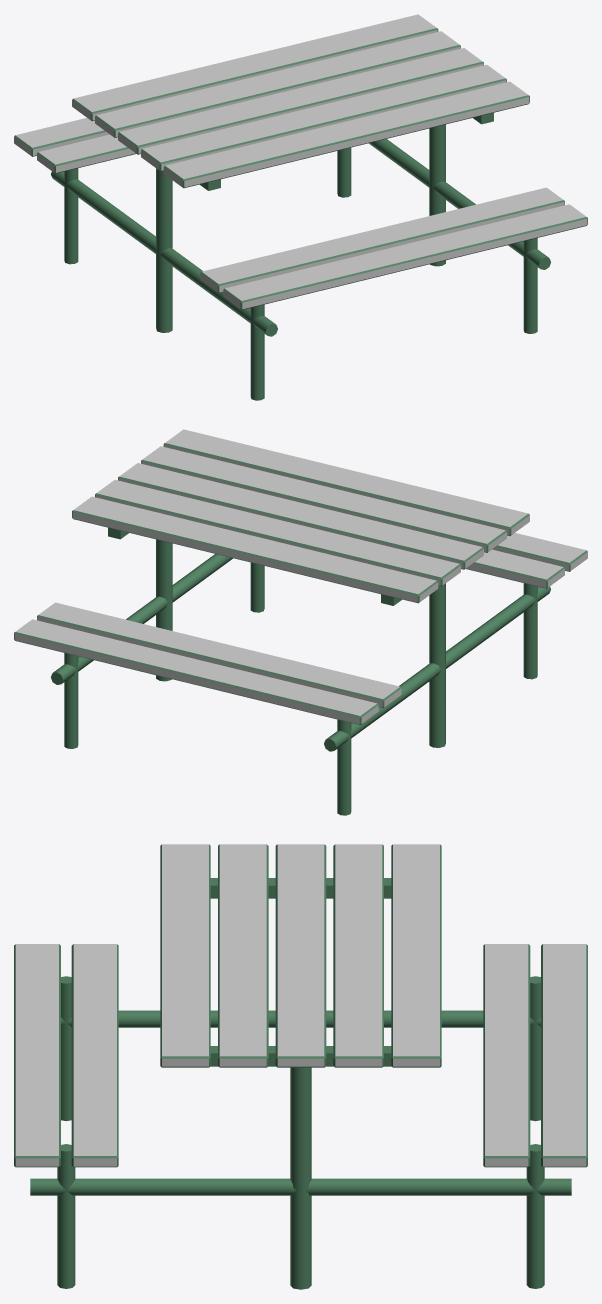
The model's file is courtyard_table_benches.glb.
3 views of the same model, one above another, from view 1: azimuth 30°, elevation 25°; view 2: azimuth 150°, elevation 25°; view 3: azimuth 270°, elevation 25° (orthographic). The views are drawn at different scales.
Parts seen in each view (by area): view 1: courtyard_table_benches; view 2: courtyard_table_benches; view 3: courtyard_table_benches.
Boxes of the visible parts, box(x1,y1,x2,y2) form: courtyard_table_benches: box(14, 14, 587, 400); courtyard_table_benches: box(14, 429, 587, 815); courtyard_table_benches: box(14, 844, 587, 1289).
Size of the model in its own units: 1.4 by 0.7675 by 1.59.
